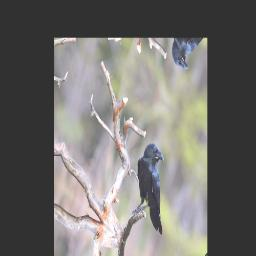Crow: (126, 134, 181, 240)
